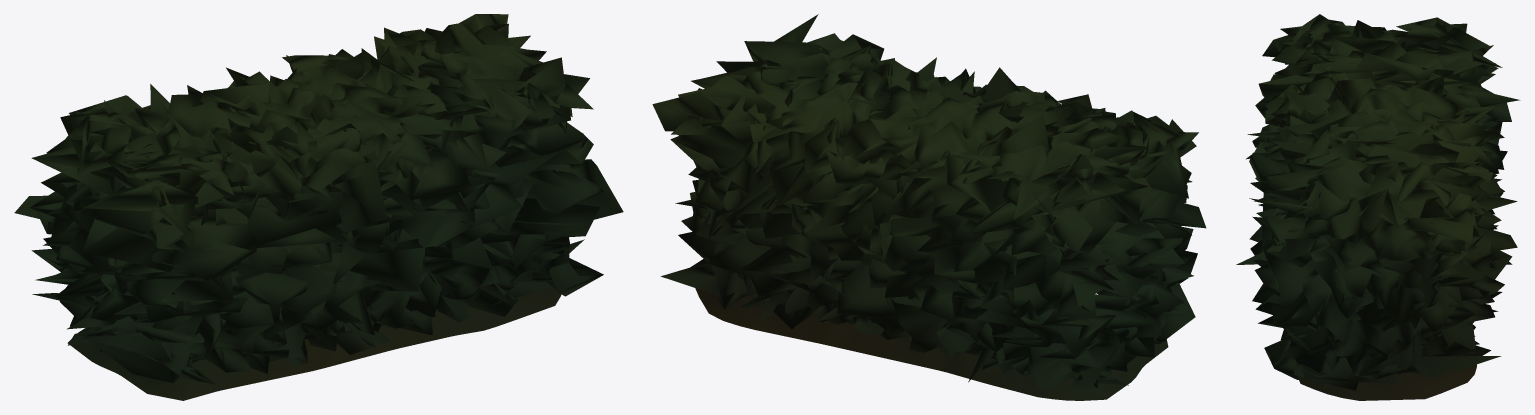
File: PC_HedgeFenceLow_2m.FBX
The picture shows the model from 3 angles, left to right: view 1: azimuth 30°, elevation 25°; view 2: azimuth 150°, elevation 25°; view 3: azimuth 270°, elevation 25°; orthographic projection. The views are drawn at different scales.
Parts seen in each view (by area): view 1: HedgeFenceLow_2m; view 2: HedgeFenceLow_2m; view 3: HedgeFenceLow_2m.
Boxes of the visible parts, left/top/right/bottom form: HedgeFenceLow_2m: left=14, top=14, right=623, bottom=400; HedgeFenceLow_2m: left=652, top=14, right=1206, bottom=400; HedgeFenceLow_2m: left=1236, top=14, right=1520, bottom=400.
Bounding box in the file's own units: 2.49 × 1.14 × 1.38.
